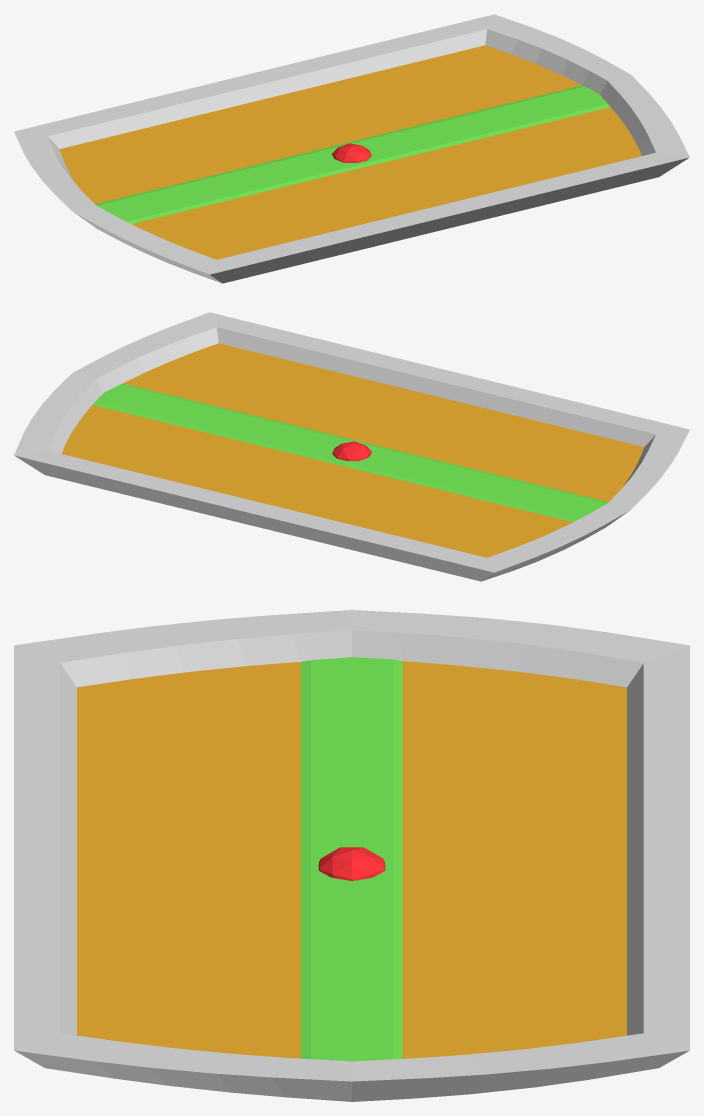
Rendered from Tablero.fbx.
3 views of the same model, one above another, from view 1: azimuth 30°, elevation 25°; view 2: azimuth 150°, elevation 25°; view 3: azimuth 270°, elevation 25° (orthographic). The views are drawn at different scales.
Parts seen in each view (by area): view 1: Tablero, GemaTurno; view 2: Tablero, GemaTurno; view 3: Tablero, GemaTurno.
Part boxes in pixels (<box>): Tablero: <box>14,14,689,283</box>; GemaTurno: <box>332,143,371,162</box>; Tablero: <box>14,312,689,581</box>; GemaTurno: <box>332,441,371,461</box>; Tablero: <box>14,610,689,1101</box>; GemaTurno: <box>318,847,385,880</box>.
Bounding box in the file's own units: 3863 × 160 × 2340.
